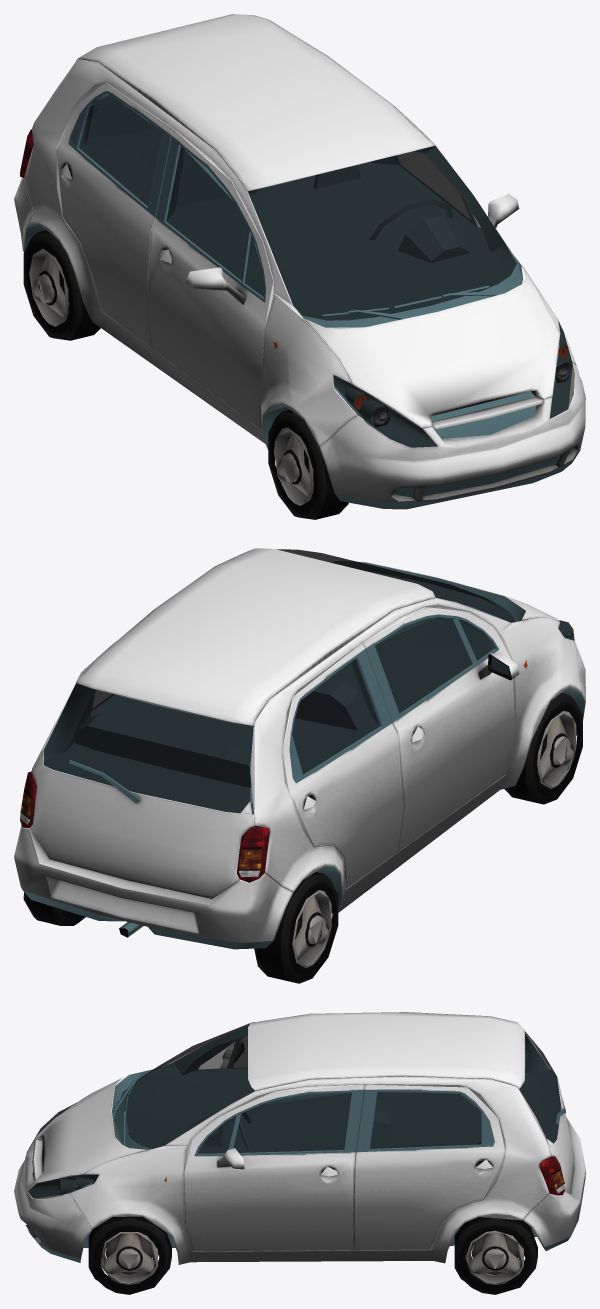
The model's file is t_compact.glb.
3 views of the same model, one above another, from view 1: azimuth 30°, elevation 25°; view 2: azimuth 150°, elevation 25°; view 3: azimuth 270°, elevation 25° (orthographic). The views are drawn at different scales.
Parts seen in each view (by area): view 1: Compact Body_Body_0, Compact Body_Glass_0, Wheel_C_Wheel_0, Compact Body_Optics_0; view 2: Compact Body_Body_0, Compact Body_Glass_0, Wheel_C_Wheel_0, Compact Body_Optics_0; view 3: Compact Body_Body_0, Compact Body_Glass_0, Wheel_C_Wheel_0, Compact Body_Optics_0.
Part boxes in pixels (bbox=[...]): Compact Body_Body_0: bbox=[14, 14, 585, 509]; Compact Body_Glass_0: bbox=[79, 95, 574, 447]; Wheel_C_Wheel_0: bbox=[23, 230, 348, 519]; Compact Body_Optics_0: bbox=[20, 129, 571, 427]; Compact Body_Body_0: bbox=[14, 548, 585, 949]; Compact Body_Glass_0: bbox=[43, 549, 574, 813]; Wheel_C_Wheel_0: bbox=[23, 693, 582, 983]; Compact Body_Optics_0: bbox=[20, 660, 527, 882]; Compact Body_Body_0: bbox=[14, 1012, 585, 1264]; Compact Body_Glass_0: bbox=[27, 1023, 561, 1198]; Wheel_C_Wheel_0: bbox=[88, 1216, 537, 1294]; Compact Body_Optics_0: bbox=[57, 1098, 565, 1195].
Bounding box in the file's own units: 1.83 × 1.49 × 3.7.
Materials: 4 (3 with a texture image).
